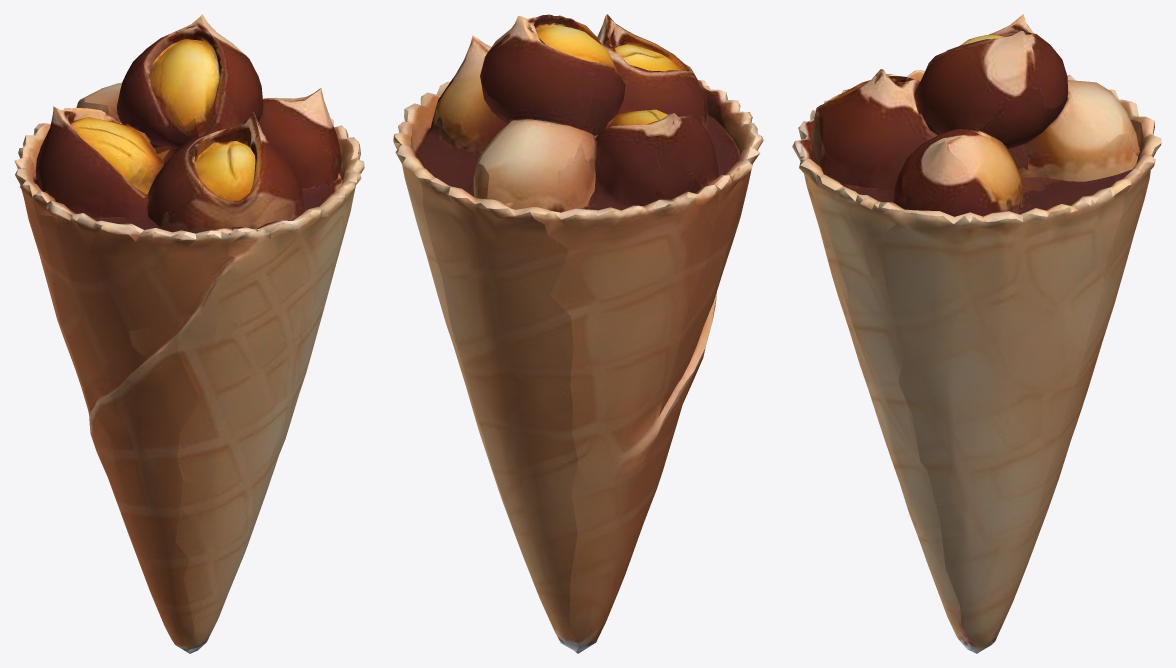
The model's file is chestnut_roast.glb.
3 renders of one model, left to right at view 1: azimuth 30°, elevation 25°; view 2: azimuth 150°, elevation 25°; view 3: azimuth 270°, elevation 25°, orthographic. The views are drawn at different scales.
Parts seen in each view (by area): view 1: item_chestnut_roast; view 2: item_chestnut_roast; view 3: item_chestnut_roast.
Boxes of the visible parts, x1,y1,x2,y2 form: item_chestnut_roast: [14, 14, 364, 653]; item_chestnut_roast: [393, 14, 763, 653]; item_chestnut_roast: [792, 14, 1161, 653].
Size of the model in its own units: 0.5204 by 1 by 0.5231.
1 material, 1 textured.
